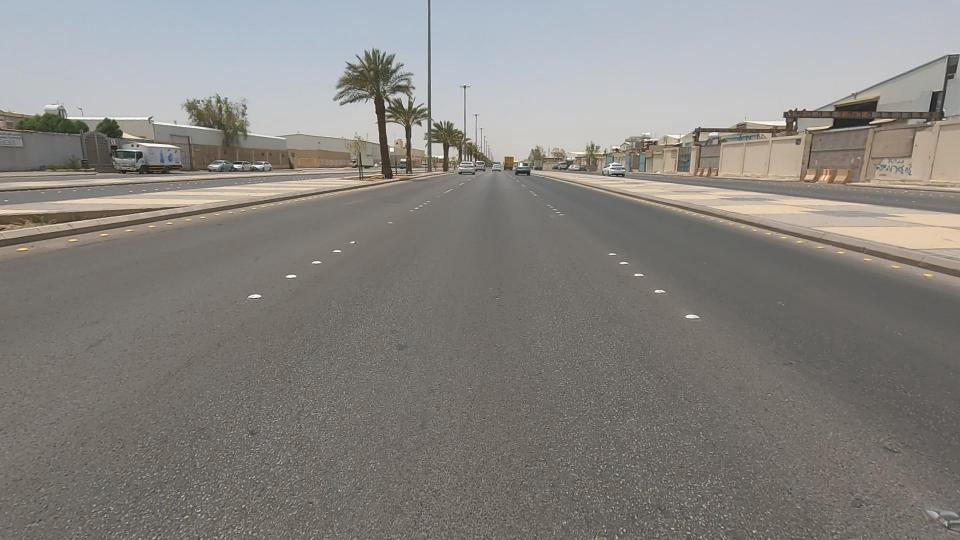GRAFFITI: (830, 129, 958, 205)
